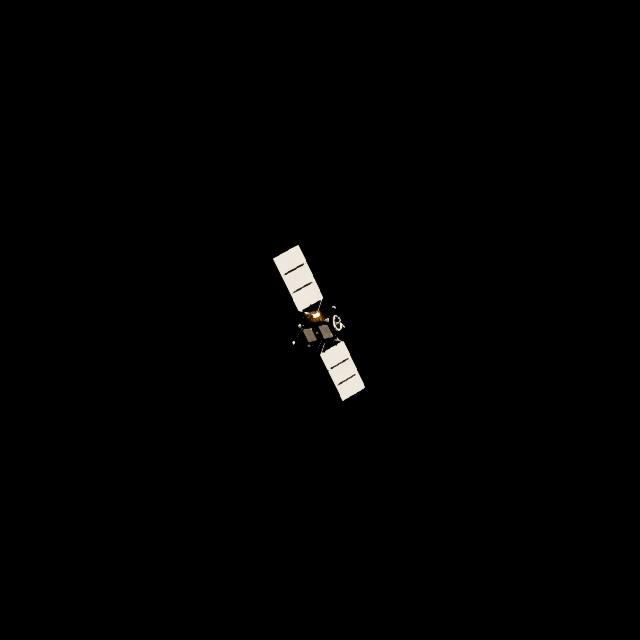medium_debris: (274, 247, 367, 405)
